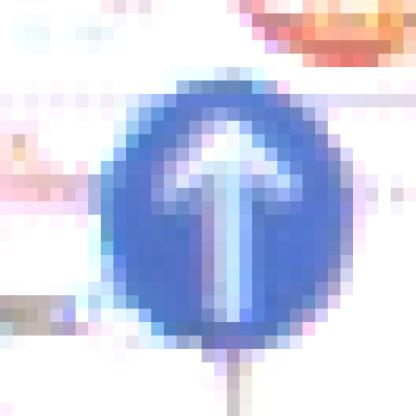AheadOnly: (77, 68, 354, 350)
